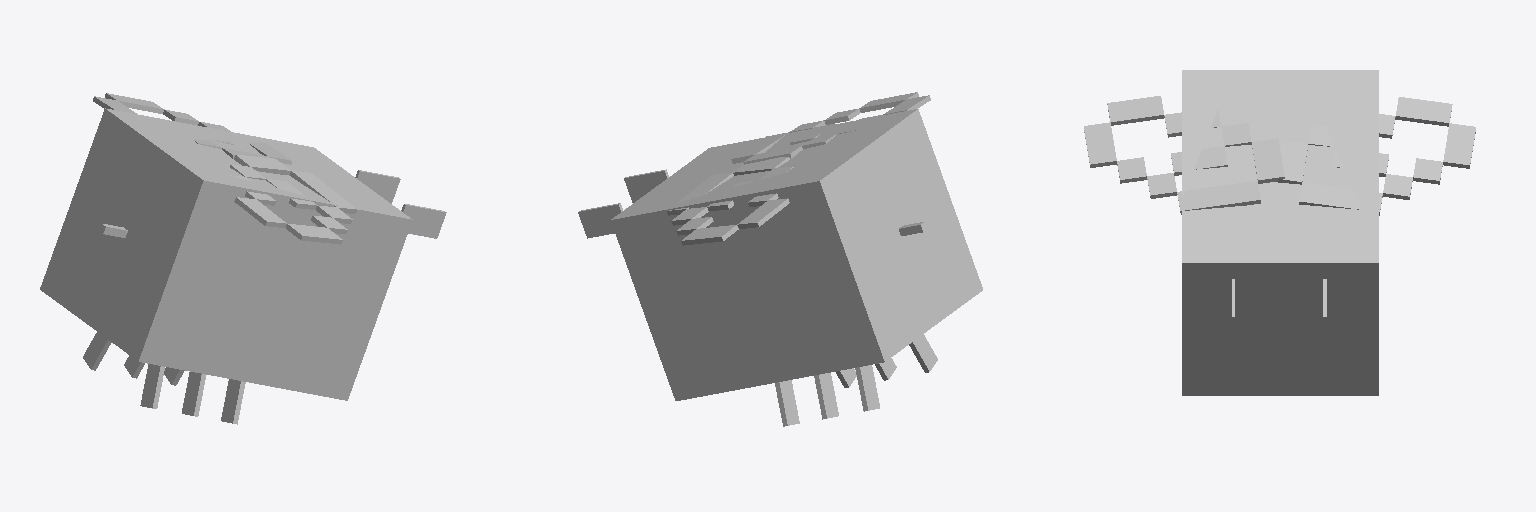
The model's file is Bee_ (103).obj.
The picture shows the model from 3 angles: view 1: azimuth 30°, elevation 25°; view 2: azimuth 150°, elevation 25°; view 3: azimuth 270°, elevation 25°; orthographic projection.
Visible parts, largest first — view 1: b_Bee_MAT_0, l_Bee_MAT_0, r_Bee_MAT_0; view 2: b_Bee_MAT_0, r_Bee_MAT_0, l_Bee_MAT_0; view 3: b_Bee_MAT_0, l_Bee_MAT_0, r_Bee_MAT_0.
Part boxes in pixels (x1,y1,x2,y2): b_Bee_MAT_0: (40, 108, 446, 424); l_Bee_MAT_0: (229, 155, 357, 244); r_Bee_MAT_0: (93, 93, 291, 164); b_Bee_MAT_0: (578, 109, 982, 426); r_Bee_MAT_0: (667, 157, 793, 245); l_Bee_MAT_0: (731, 92, 930, 164); b_Bee_MAT_0: (1182, 70, 1378, 395); l_Bee_MAT_0: (1084, 96, 1284, 214); r_Bee_MAT_0: (1277, 97, 1475, 215).
Bounding box in the file's own units: 0.306 × 0.239 × 0.3124.